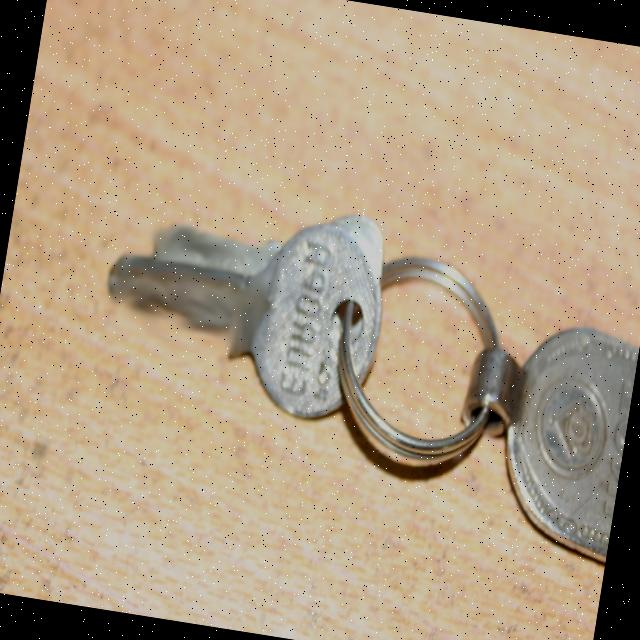Frontdoor keys: (85, 176, 398, 432)
